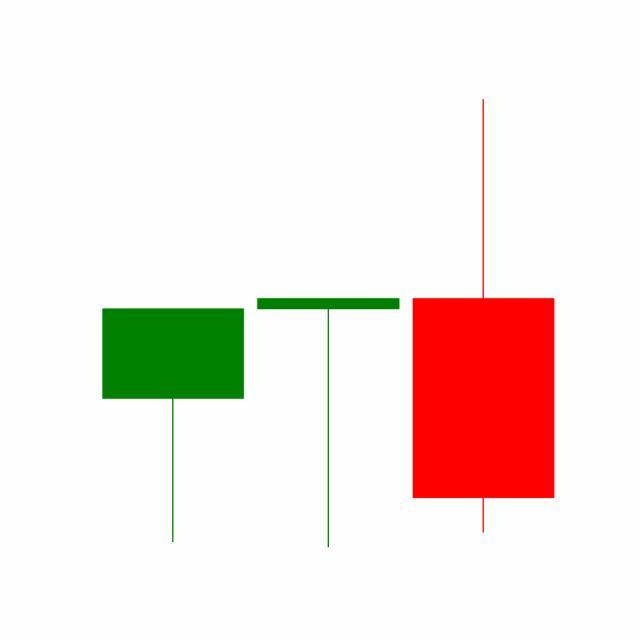Hanging Man: (250, 295, 407, 551)
